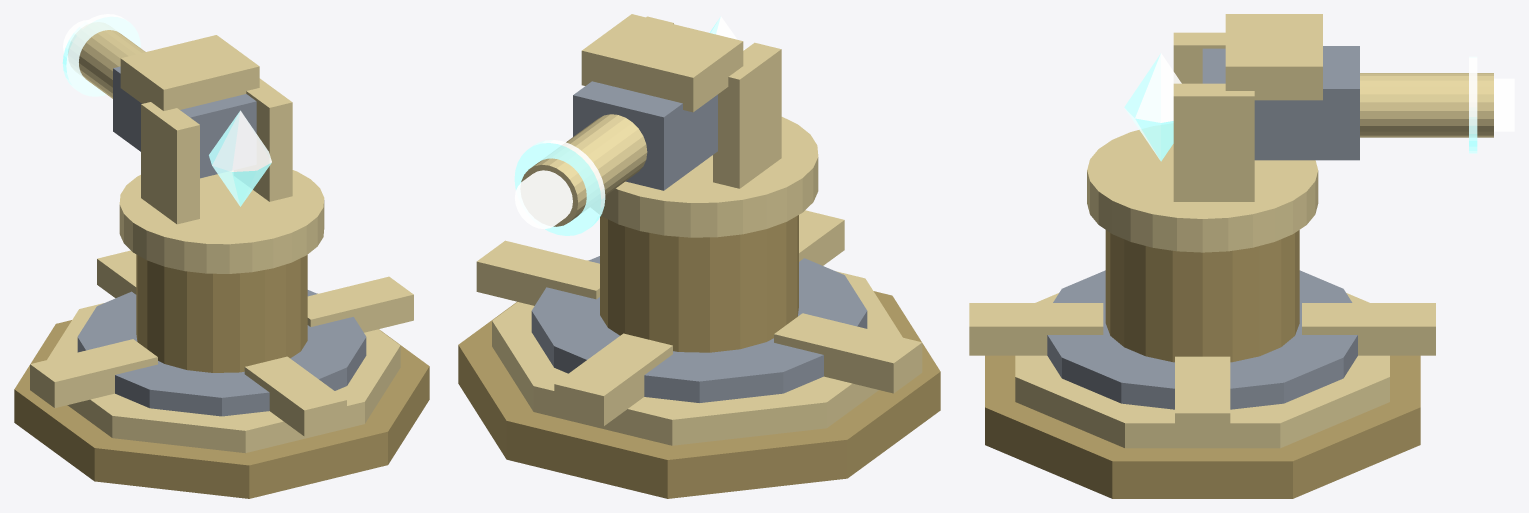
File: helias_photon_cannon.glb
The picture shows the model from 3 angles, left to right: view 1: azimuth 30°, elevation 25°; view 2: azimuth 150°, elevation 25°; view 3: azimuth 270°, elevation 25°; orthographic projection. The views are drawn at different scales.
Visible parts, largest first — view 1: foundation_000, pedestal_007, turret_ring_008, floor_002, plinth_001, gold_cowl_012, gun_yoke_009, stabilizer_004, stabilizer_005, stabilizer_006, cannon_body_011, gun_yoke_010 (+4 smaller); view 2: foundation_000, pedestal_007, floor_002, plinth_001, turret_ring_008, gold_cowl_012, cannon_body_011, gun_yoke_009, stabilizer_004, stabilizer_003, stabilizer_006, emitter_barrel_013 (+3 smaller); view 3: foundation_000, pedestal_007, turret_ring_008, floor_002, plinth_001, gun_yoke_010, cannon_body_011, gold_cowl_012, emitter_barrel_013, stabilizer_005, stabilizer_003, stabilizer_006 (+4 smaller).
Part boxes in pixels (x1,y1,x2,y2): foundation_000: (14,320,429,498); pedestal_007: (136,254,307,372); turret_ring_008: (119,170,324,273); floor_002: (77,290,366,416); plinth_001: (47,293,400,453); gold_cowl_012: (120,35,259,110); gun_yoke_009: (141,102,199,224); stabilizer_004: (30,339,157,407); stabilizer_005: (244,356,346,436); stabilizer_006: (307,276,413,332); cannon_body_011: (113,66,256,178); gun_yoke_010: (246,78,292,201); foundation_000: (458,291,940,498); pedestal_007: (600,215,798,352); floor_002: (531,256,867,402); plinth_001: (492,260,902,445); turret_ring_008: (601,117,818,237); gold_cowl_012: (581,14,743,112); cannon_body_011: (573,81,717,190); gun_yoke_009: (713,42,781,188); stabilizer_004: (774,313,922,393); stabilizer_003: (554,333,672,426); stabilizer_006: (476,240,599,305); emitter_barrel_013: (521,114,647,226); foundation_000: (985,355,1420,498); pedestal_007: (1105,230,1299,362); turret_ring_008: (1087,130,1318,252); floor_002: (1047,270,1357,409); plinth_001: (1015,293,1389,448); gun_yoke_010: (1173,83,1254,201); cannon_body_011: (1202,46,1359,160); gold_cowl_012: (1225,14,1322,100); emitter_barrel_013: (1360,73,1493,137); stabilizer_005: (969,303,1103,355); stabilizer_003: (1302,303,1435,355); stabilizer_006: (1175,356,1230,442).
Size of the model in its own units: 3.42 by 2.97 by 4.
